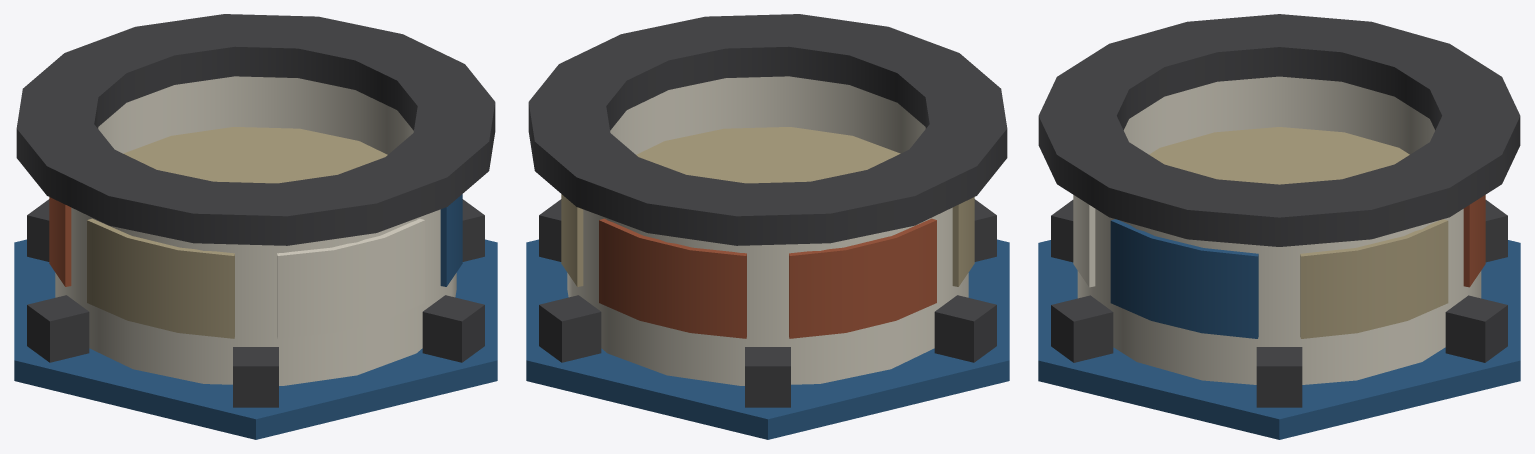
File: collar_frame.obj
3 views of the same model, side by side, from view 1: azimuth 30°, elevation 25°; view 2: azimuth 150°, elevation 25°; view 3: azimuth 270°, elevation 25° (orthographic).
Parts seen in each view (by area): view 1: collar_frame; view 2: collar_frame; view 3: collar_frame.
Boxes of the visible parts, <box> form: collar_frame: <box>14,14,497,439</box>; collar_frame: <box>526,14,1009,439</box>; collar_frame: <box>1038,14,1520,439</box>.
Bounding box in the file's own units: 1.71 × 0.7 × 1.48.
